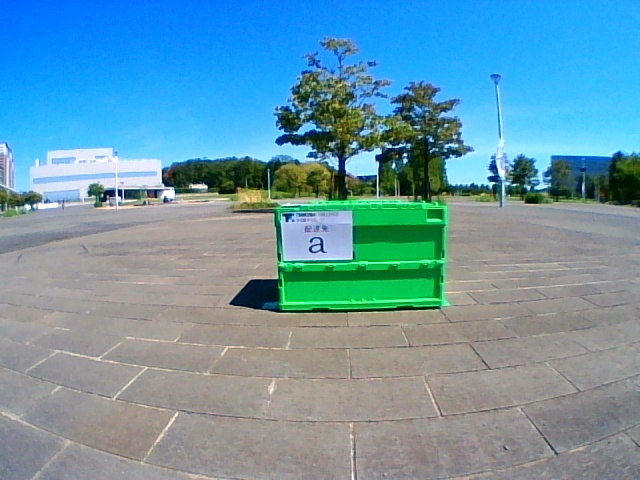green_box: (275, 200, 445, 310)
tag_a: (283, 214, 351, 260)
